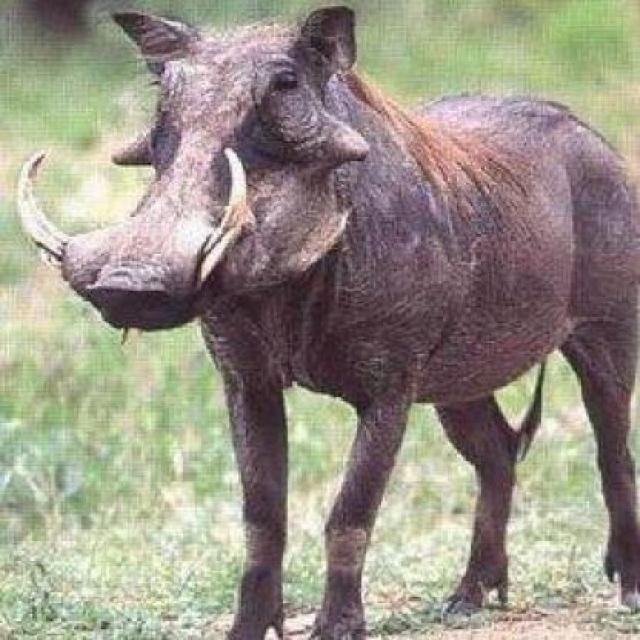Wild Boar: (11, 3, 640, 640)
